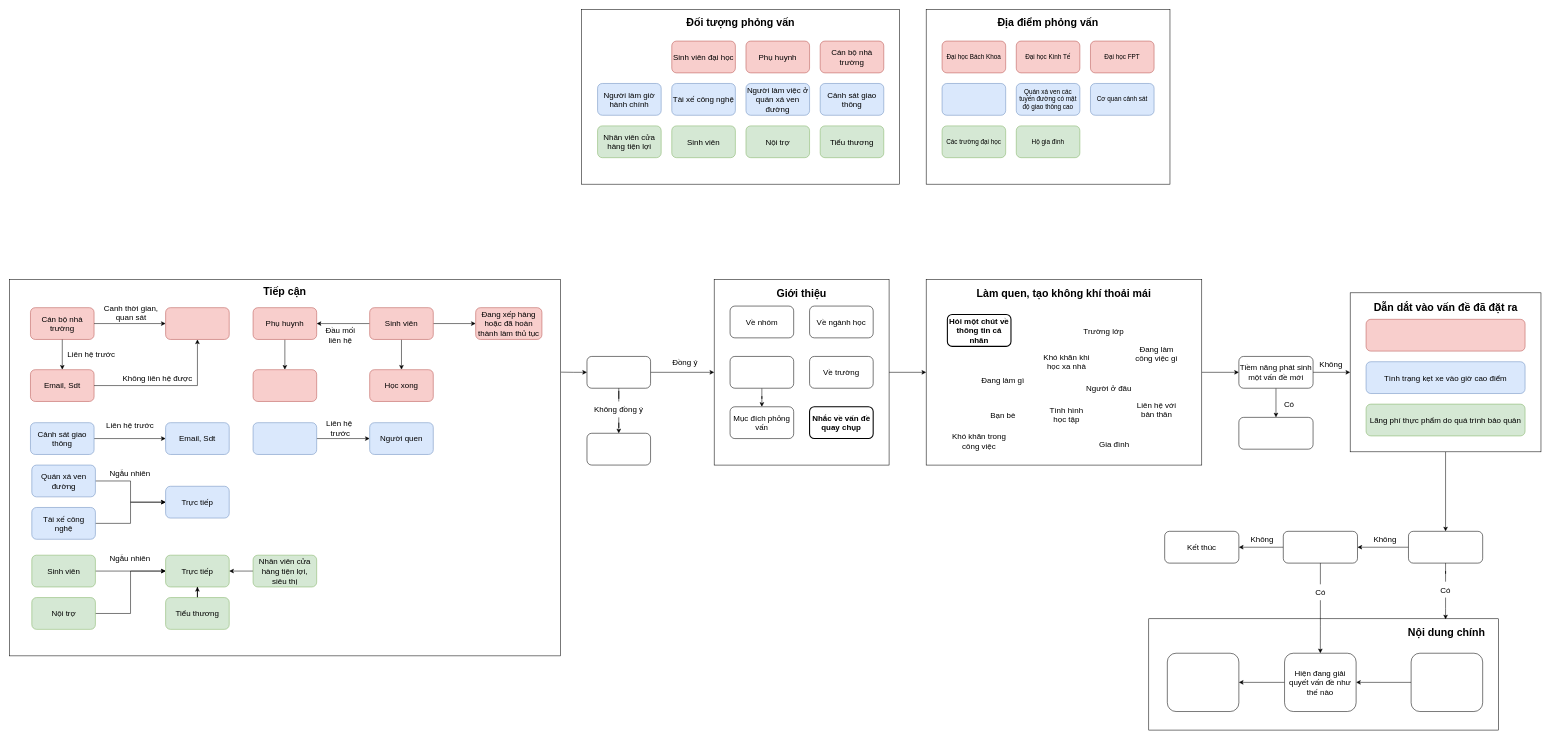
Some shapes in this 1550 by 739 pixel diagram are drawn without their labels. The shapes that lost their labels are listed below. From the top down, each one's centre as x and y in pixels, then its label:
At (x=197, y=323): "Khung giờ hành chính (Chiều)".
At (x=1445, y=335): "Khó khăn khi liên lạc, gửi yêu cầu đến nhà trường".
At (x=285, y=385): "Trong lúc đợi đón cón".
At (x=618, y=372): "Xin ít thời gian phỏng vấn".
At (x=762, y=372): "Về môn học".
At (x=285, y=438): "Người đi làm giờ hành chính".
At (x=618, y=449): "Bắt chuyện với đối tượng khác".
At (x=1275, y=433): "Đào sâu về vấn đề đó".
At (x=1320, y=547): "Quan tâm?".
At (x=1445, y=547): "Mối liên hệ đến vấn đề đặt ra".
At (x=1203, y=682): "Tìm hiểu về mong muốn của người phỏng vấn".
At (x=1447, y=682): "Trải nghiệm của người phỏng vấn với vấn đề được đặt ra".
